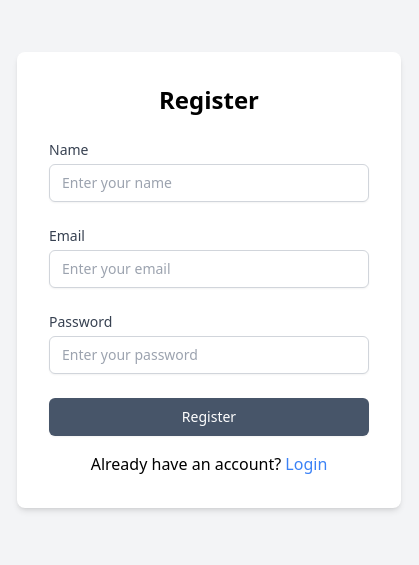
Test: Register spec › should display error validation when input fields are invalid
This screenshot has width=419, height=565.
Click the submit button at point(209, 417), box x1=49 y1=398 x2=369 y2=436
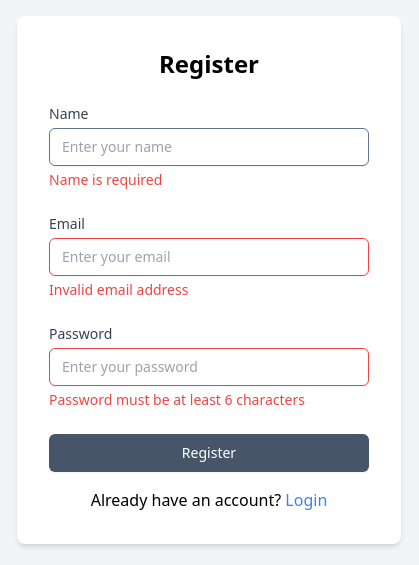
expect the text "Name is required" is shown: met, box x1=49 y1=170 x2=162 y2=189
expect the text "Invalid email address" is shown: met, box x1=49 y1=280 x2=188 y2=299
expect the text "Password must be at least 6 characters" is shown: met, box x1=49 y1=390 x2=305 y2=409
